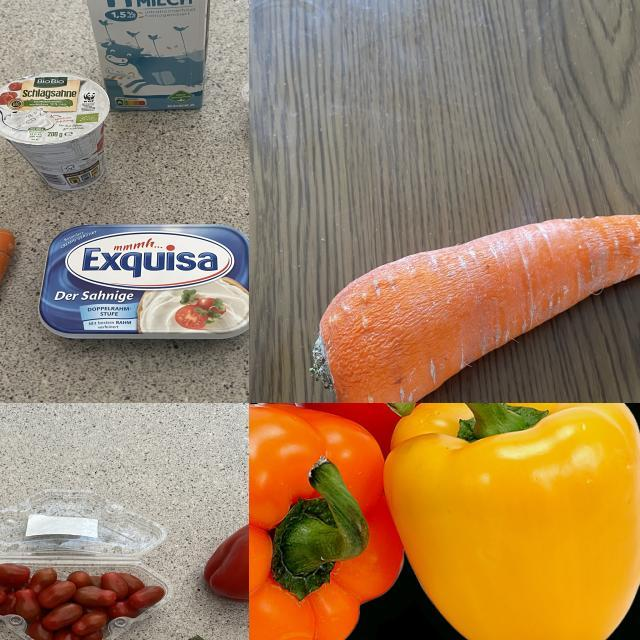bell_pepper: (358, 404, 640, 640), (250, 404, 409, 640), (200, 514, 250, 613)
carrot: (309, 207, 640, 404)
tomato: (1, 498, 185, 640)
